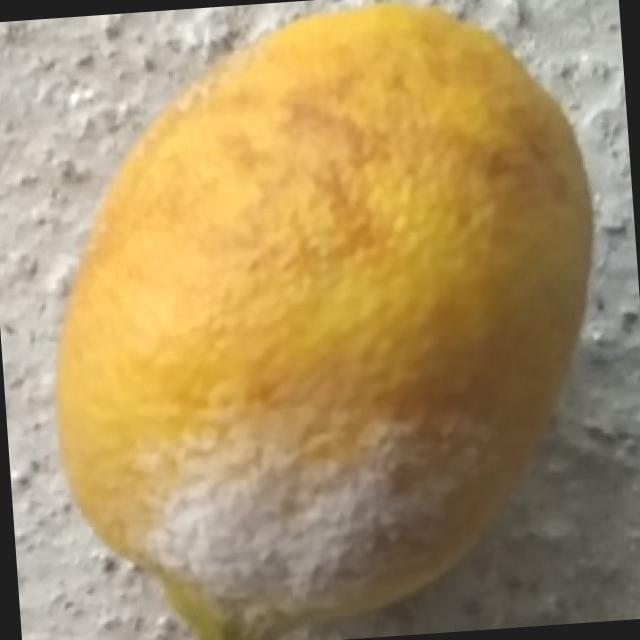overripe: (16, 0, 626, 640)
